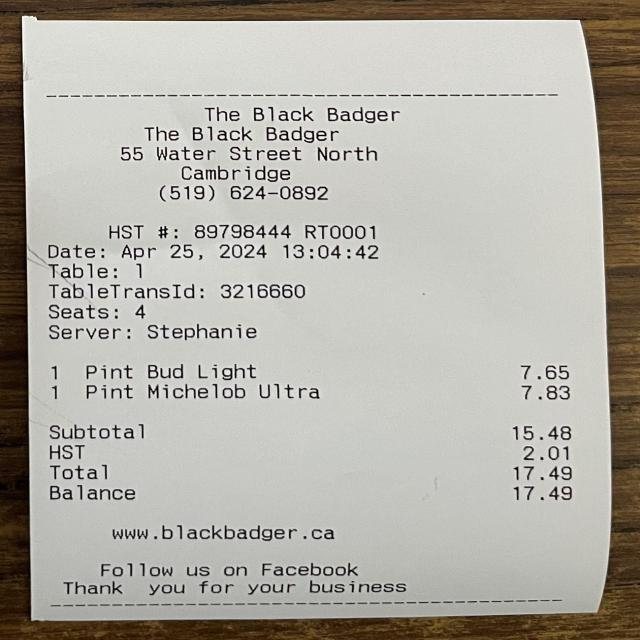item: (69, 360, 582, 385), (70, 381, 583, 403)
store_name: (194, 100, 412, 128)
total_amount: (39, 460, 590, 486)
transaction_date: (113, 241, 278, 266)
